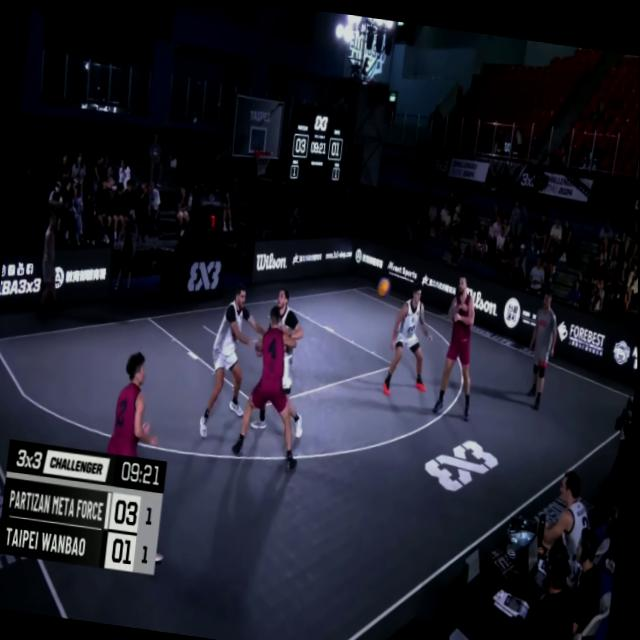ball: (375, 272, 392, 295)
hoop: (252, 143, 275, 179)
player: (227, 295, 317, 469), (199, 280, 269, 442), (250, 284, 310, 434), (433, 263, 485, 417), (381, 275, 435, 403), (107, 348, 167, 458)
